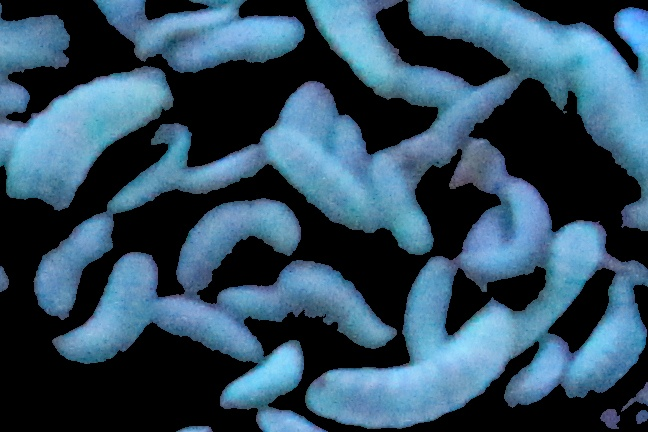dog: (505, 172, 550, 254)
larvae: (305, 307, 512, 422), (8, 69, 168, 209), (262, 124, 378, 236), (560, 20, 647, 169), (57, 253, 155, 363), (177, 202, 298, 290), (281, 257, 394, 350), (413, 72, 528, 156), (528, 217, 604, 335), (27, 216, 112, 318), (406, 1, 559, 55), (168, 10, 303, 71), (311, 1, 399, 93), (569, 279, 630, 406), (156, 296, 266, 359), (375, 145, 432, 254), (215, 344, 302, 411), (130, 9, 243, 57), (400, 259, 454, 352), (168, 149, 268, 197), (465, 230, 539, 291), (514, 333, 569, 408), (108, 153, 167, 220), (218, 280, 289, 325), (402, 62, 469, 105)
